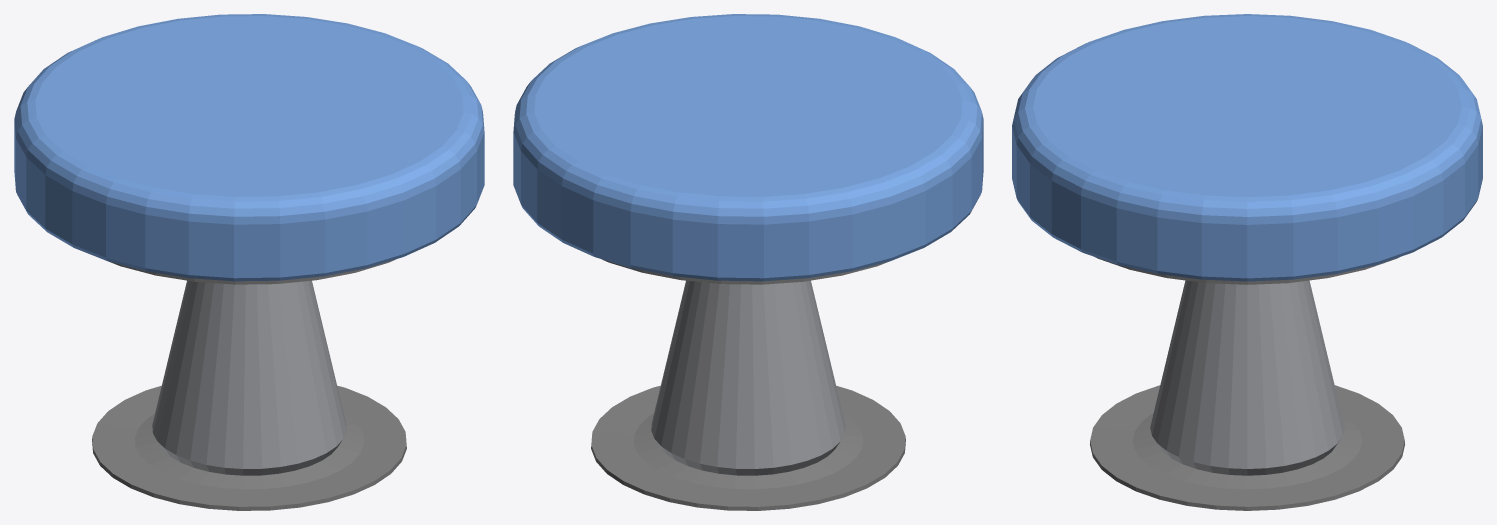
Rendered from Chair_01.fbx.
The picture shows the model from 3 angles, left to right: view 1: azimuth 30°, elevation 25°; view 2: azimuth 150°, elevation 25°; view 3: azimuth 270°, elevation 25°; orthographic projection.
Visible parts, largest first — view 1: Chair_LOD0; view 2: Chair_LOD0; view 3: Chair_LOD0.
Boxes of the visible parts, box(x1,y1,x2,y2) form: Chair_LOD0: box(14, 14, 484, 510); Chair_LOD0: box(513, 14, 983, 510); Chair_LOD0: box(1012, 14, 1482, 510).
Size of what is drawn, in the model's own units: 200 by 176 by 200.
